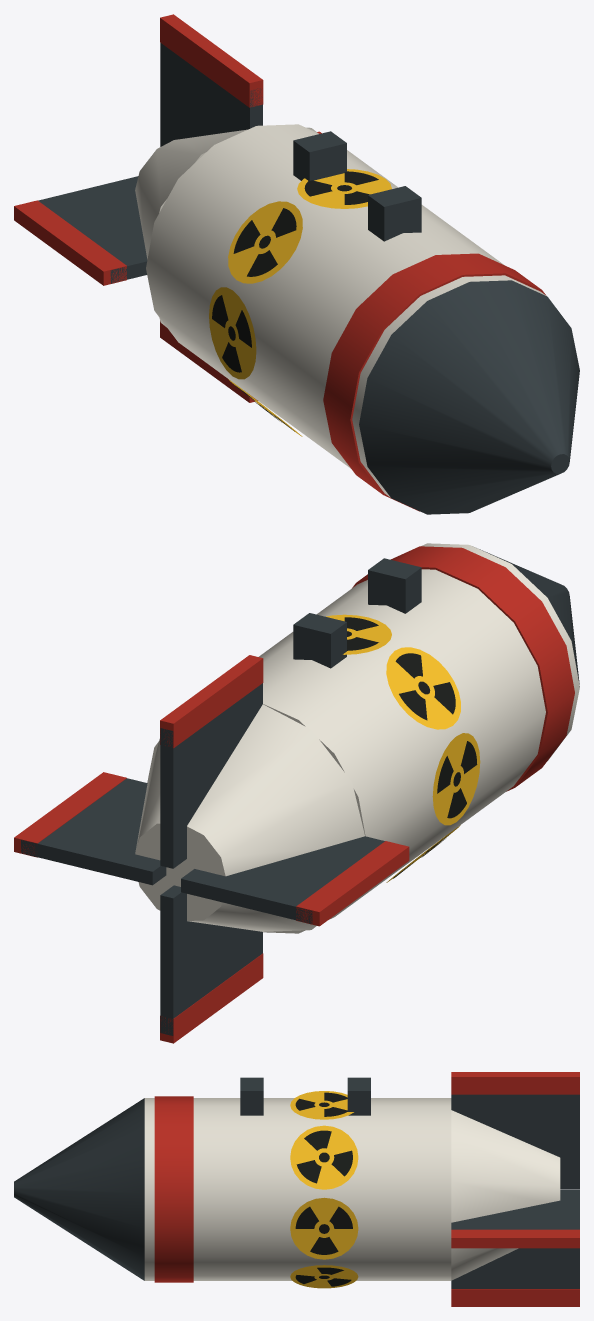
3 views of the same model, one above another, from view 1: azimuth 30°, elevation 25°; view 2: azimuth 150°, elevation 25°; view 3: azimuth 270°, elevation 25° (orthographic). The views are drawn at different scales.
Visible parts, largest first — view 1: nuclear-bomb-fleet-armor, nuclear-bomb-fleet-machine, nuclear-bomb-fleet-red, nuclear-bomb-hazard-yellow, bomb-fin-1-fleet-machine, bomb-fin-2-fleet-machine, nuclear-bomb-hazard-black, bomb-fin-1-fleet-red, bomb-fin-2-fleet-red, bomb-fin-3-fleet-red; view 2: nuclear-bomb-fleet-armor, nuclear-bomb-fleet-red, bomb-fin-3-fleet-machine, bomb-fin-1-fleet-machine, bomb-fin-0-fleet-machine, bomb-fin-2-fleet-machine, nuclear-bomb-hazard-yellow, nuclear-bomb-fleet-machine, bomb-fin-2-fleet-red, bomb-fin-1-fleet-red, nuclear-bomb-hazard-black, bomb-fin-3-fleet-red (+1 smaller); view 3: nuclear-bomb-fleet-armor, nuclear-bomb-fleet-machine, nuclear-bomb-fleet-red, nuclear-bomb-hazard-yellow, bomb-fin-1-fleet-machine, bomb-fin-3-fleet-machine, nuclear-bomb-hazard-black, bomb-fin-1-fleet-red, bomb-fin-0-fleet-machine, bomb-fin-0-fleet-red, bomb-fin-3-fleet-red.
Part boxes in pixels (left/top/right/bottom): nuclear-bomb-fleet-armor: left=135, top=124, right=545, bottom=497; nuclear-bomb-fleet-machine: left=293, top=131, right=579, bottom=514; nuclear-bomb-fleet-red: left=323, top=253, right=546, bottom=511; nuclear-bomb-hazard-yellow: left=209, top=169, right=391, bottom=436; bomb-fin-1-fleet-machine: left=160, top=43, right=262, bottom=146; bomb-fin-2-fleet-machine: left=38, top=176, right=147, bottom=283; nuclear-bomb-hazard-black: left=212, top=171, right=378, bottom=431; bomb-fin-1-fleet-red: left=160, top=14, right=263, bottom=107; bomb-fin-2-fleet-red: left=14, top=200, right=126, bottom=285; bomb-fin-3-fleet-red: left=160, top=321, right=257, bottom=402; nuclear-bomb-fleet-armor: left=135, top=543, right=579, bottom=933; nuclear-bomb-fleet-red: left=352, top=546, right=574, bottom=791; bomb-fin-3-fleet-machine: left=160, top=885, right=262, bottom=1035; bomb-fin-1-fleet-machine: left=160, top=683, right=262, bottom=868; bomb-fin-0-fleet-machine: left=21, top=778, right=166, bottom=885; bomb-fin-2-fleet-machine: left=181, top=836, right=384, bottom=924; nuclear-bomb-hazard-yellow: left=326, top=614, right=480, bottom=882; nuclear-bomb-fleet-machine: left=293, top=549, right=579, bottom=686; bomb-fin-2-fleet-red: left=296, top=841, right=409, bottom=926; bomb-fin-1-fleet-red: left=160, top=655, right=263, bottom=748; nuclear-bomb-hazard-black: left=344, top=617, right=477, bottom=878; bomb-fin-3-fleet-red: left=160, top=953, right=263, bottom=1043; nuclear-bomb-fleet-armor: left=144, top=1098, right=560, bottom=1280; nuclear-bomb-fleet-machine: left=14, top=1077, right=370, bottom=1280; nuclear-bomb-fleet-red: left=154, top=1096, right=193, bottom=1282; nuclear-bomb-hazard-yellow: left=290, top=1091, right=358, bottom=1288; bomb-fin-1-fleet-machine: left=451, top=1094, right=579, bottom=1180; bomb-fin-3-fleet-machine: left=451, top=1248, right=579, bottom=1288; nuclear-bomb-hazard-black: left=295, top=1092, right=352, bottom=1286; bomb-fin-1-fleet-red: left=451, top=1072, right=579, bottom=1094; bomb-fin-0-fleet-machine: left=451, top=1189, right=579, bottom=1229; bomb-fin-0-fleet-red: left=451, top=1229, right=579, bottom=1248; bomb-fin-3-fleet-red: left=451, top=1289, right=579, bottom=1306.
Bounding box in the file's own units: 23.59 × 23.59 × 52.63.
